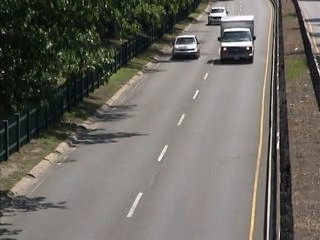car: (172, 34, 202, 62), (206, 5, 231, 27)
truck: (218, 15, 261, 66)
